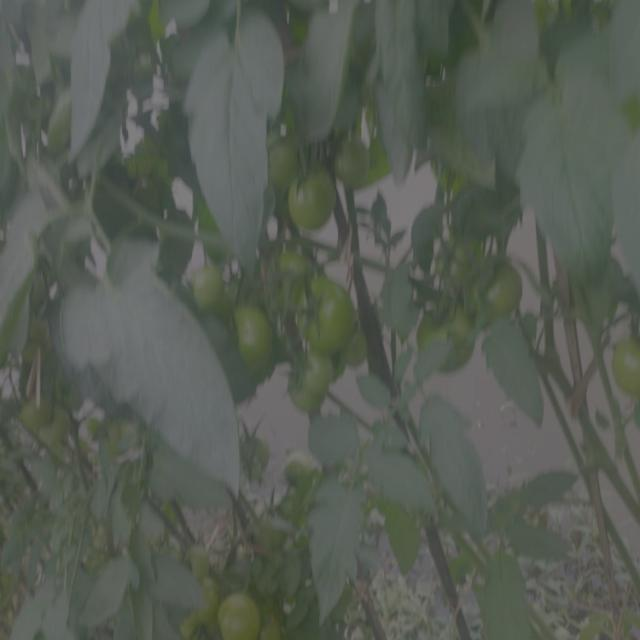tomato: (418, 299, 479, 375), (223, 303, 284, 374), (466, 248, 525, 318), (304, 281, 358, 356), (580, 265, 636, 319), (210, 582, 262, 640), (602, 328, 640, 403), (281, 179, 333, 233), (279, 447, 328, 502), (257, 129, 300, 191), (335, 132, 376, 192), (273, 239, 320, 287), (181, 256, 224, 307), (296, 357, 339, 401)
